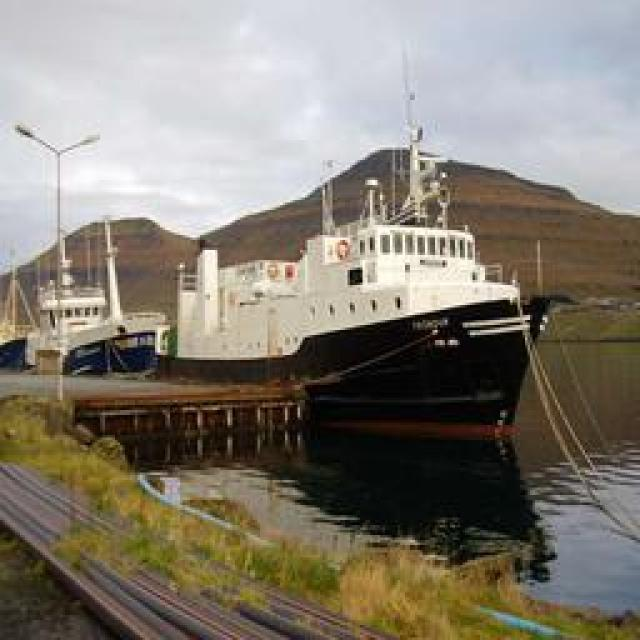ship2: (167, 147, 554, 440)
